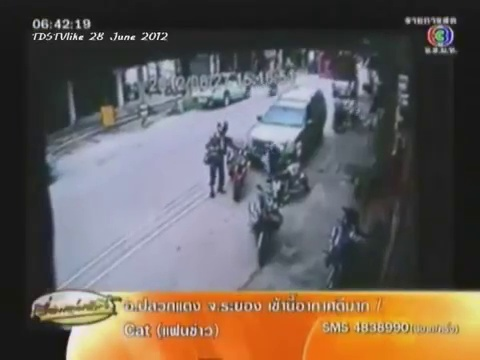helmet: (215, 114, 229, 131)
